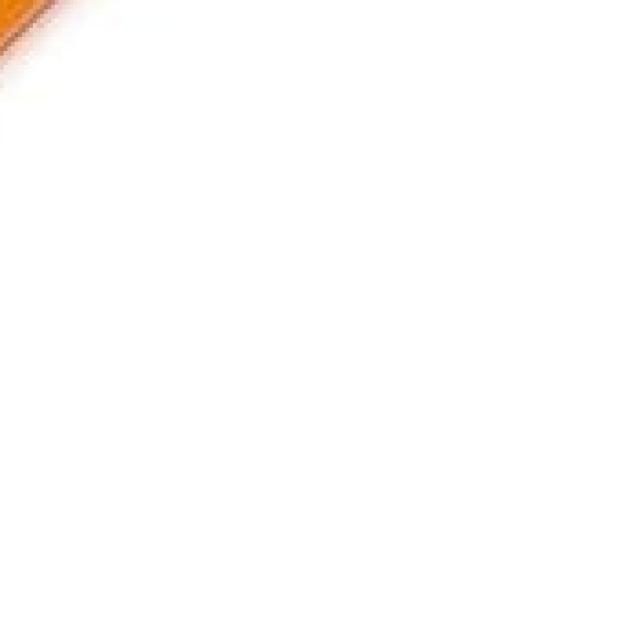Pencilrotation: (0, 0, 636, 617)
